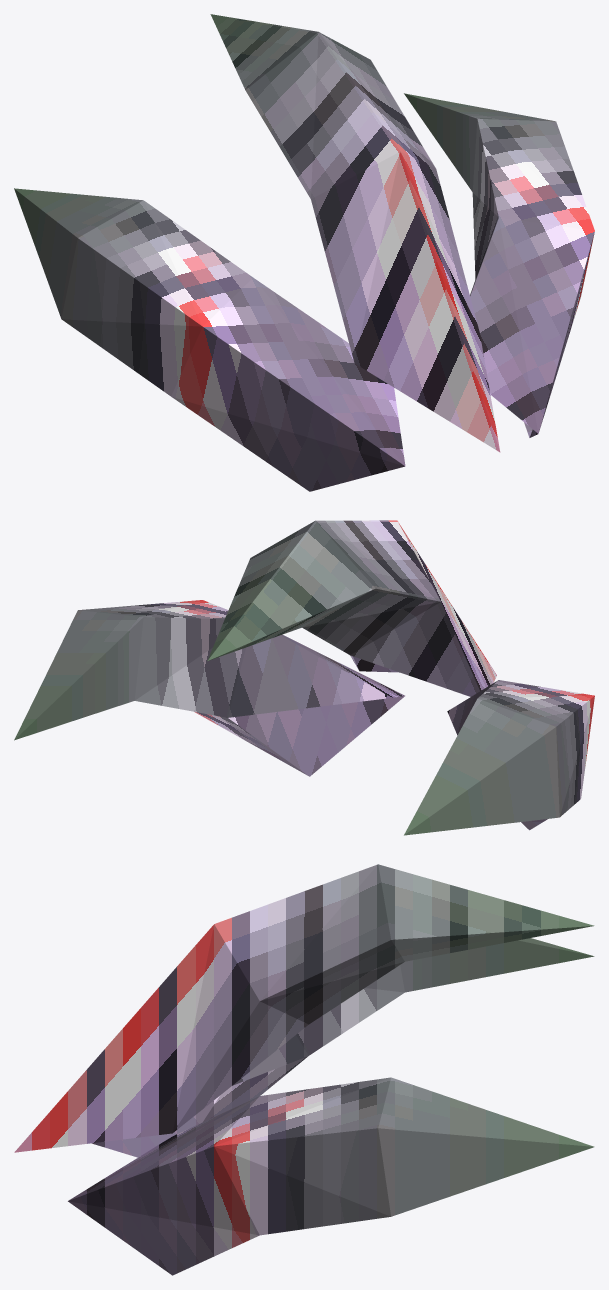
3 views of the same model, one above another, from view 1: azimuth 30°, elevation 25°; view 2: azimuth 150°, elevation 25°; view 3: azimuth 270°, elevation 25° (orthographic).
Parts seen in each view (by area): view 1: e07bb599; view 2: e07bb599; view 3: e07bb599.
Part boxes in pixels (x1=…): e07bb599: x1=14, y1=14, x2=594, y2=491; e07bb599: x1=14, y1=520, x2=594, y2=835; e07bb599: x1=14, y1=864, x2=594, y2=1275.
Size of the model in its own units: 10.76 by 7.38 by 10.84.
Materials: 1 (1 with a texture image).
